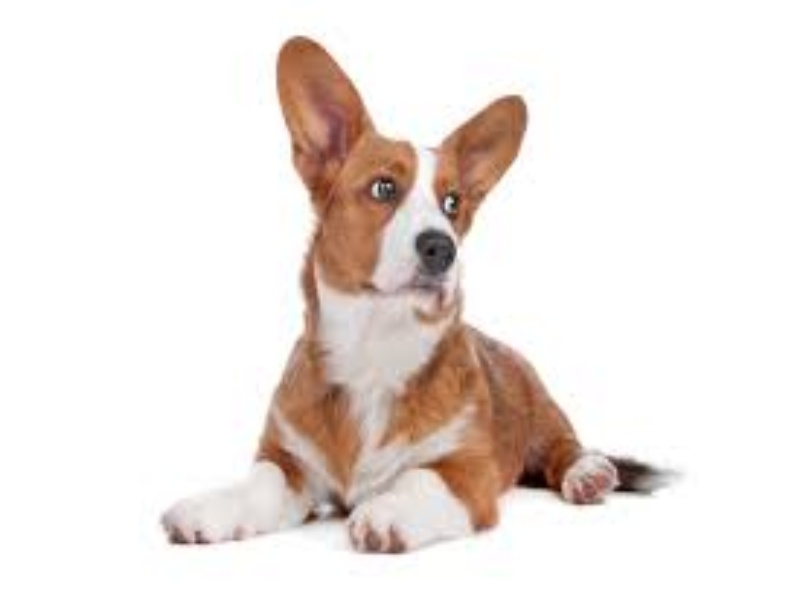dog: (142, 25, 707, 565)
